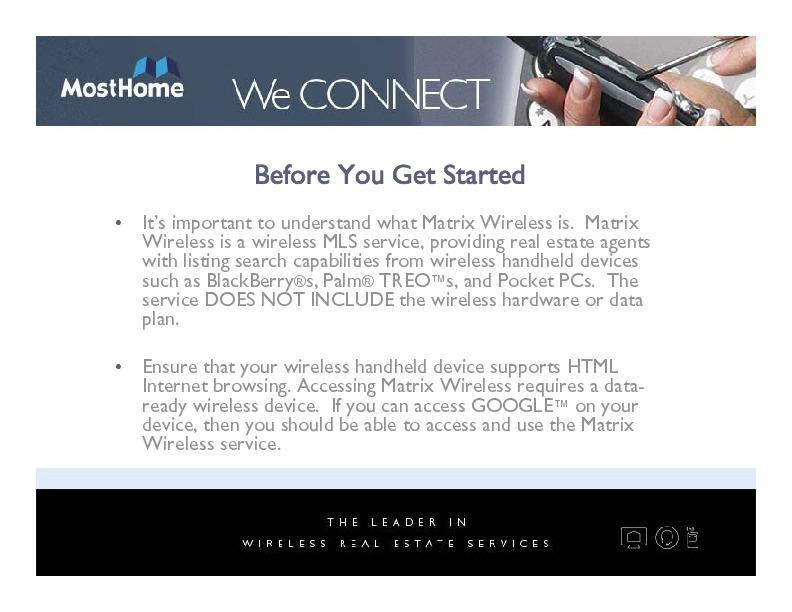paragraph: (103, 204, 666, 454)
subtitle: (225, 499, 741, 568), (246, 153, 529, 197)
title: (54, 45, 533, 125)
